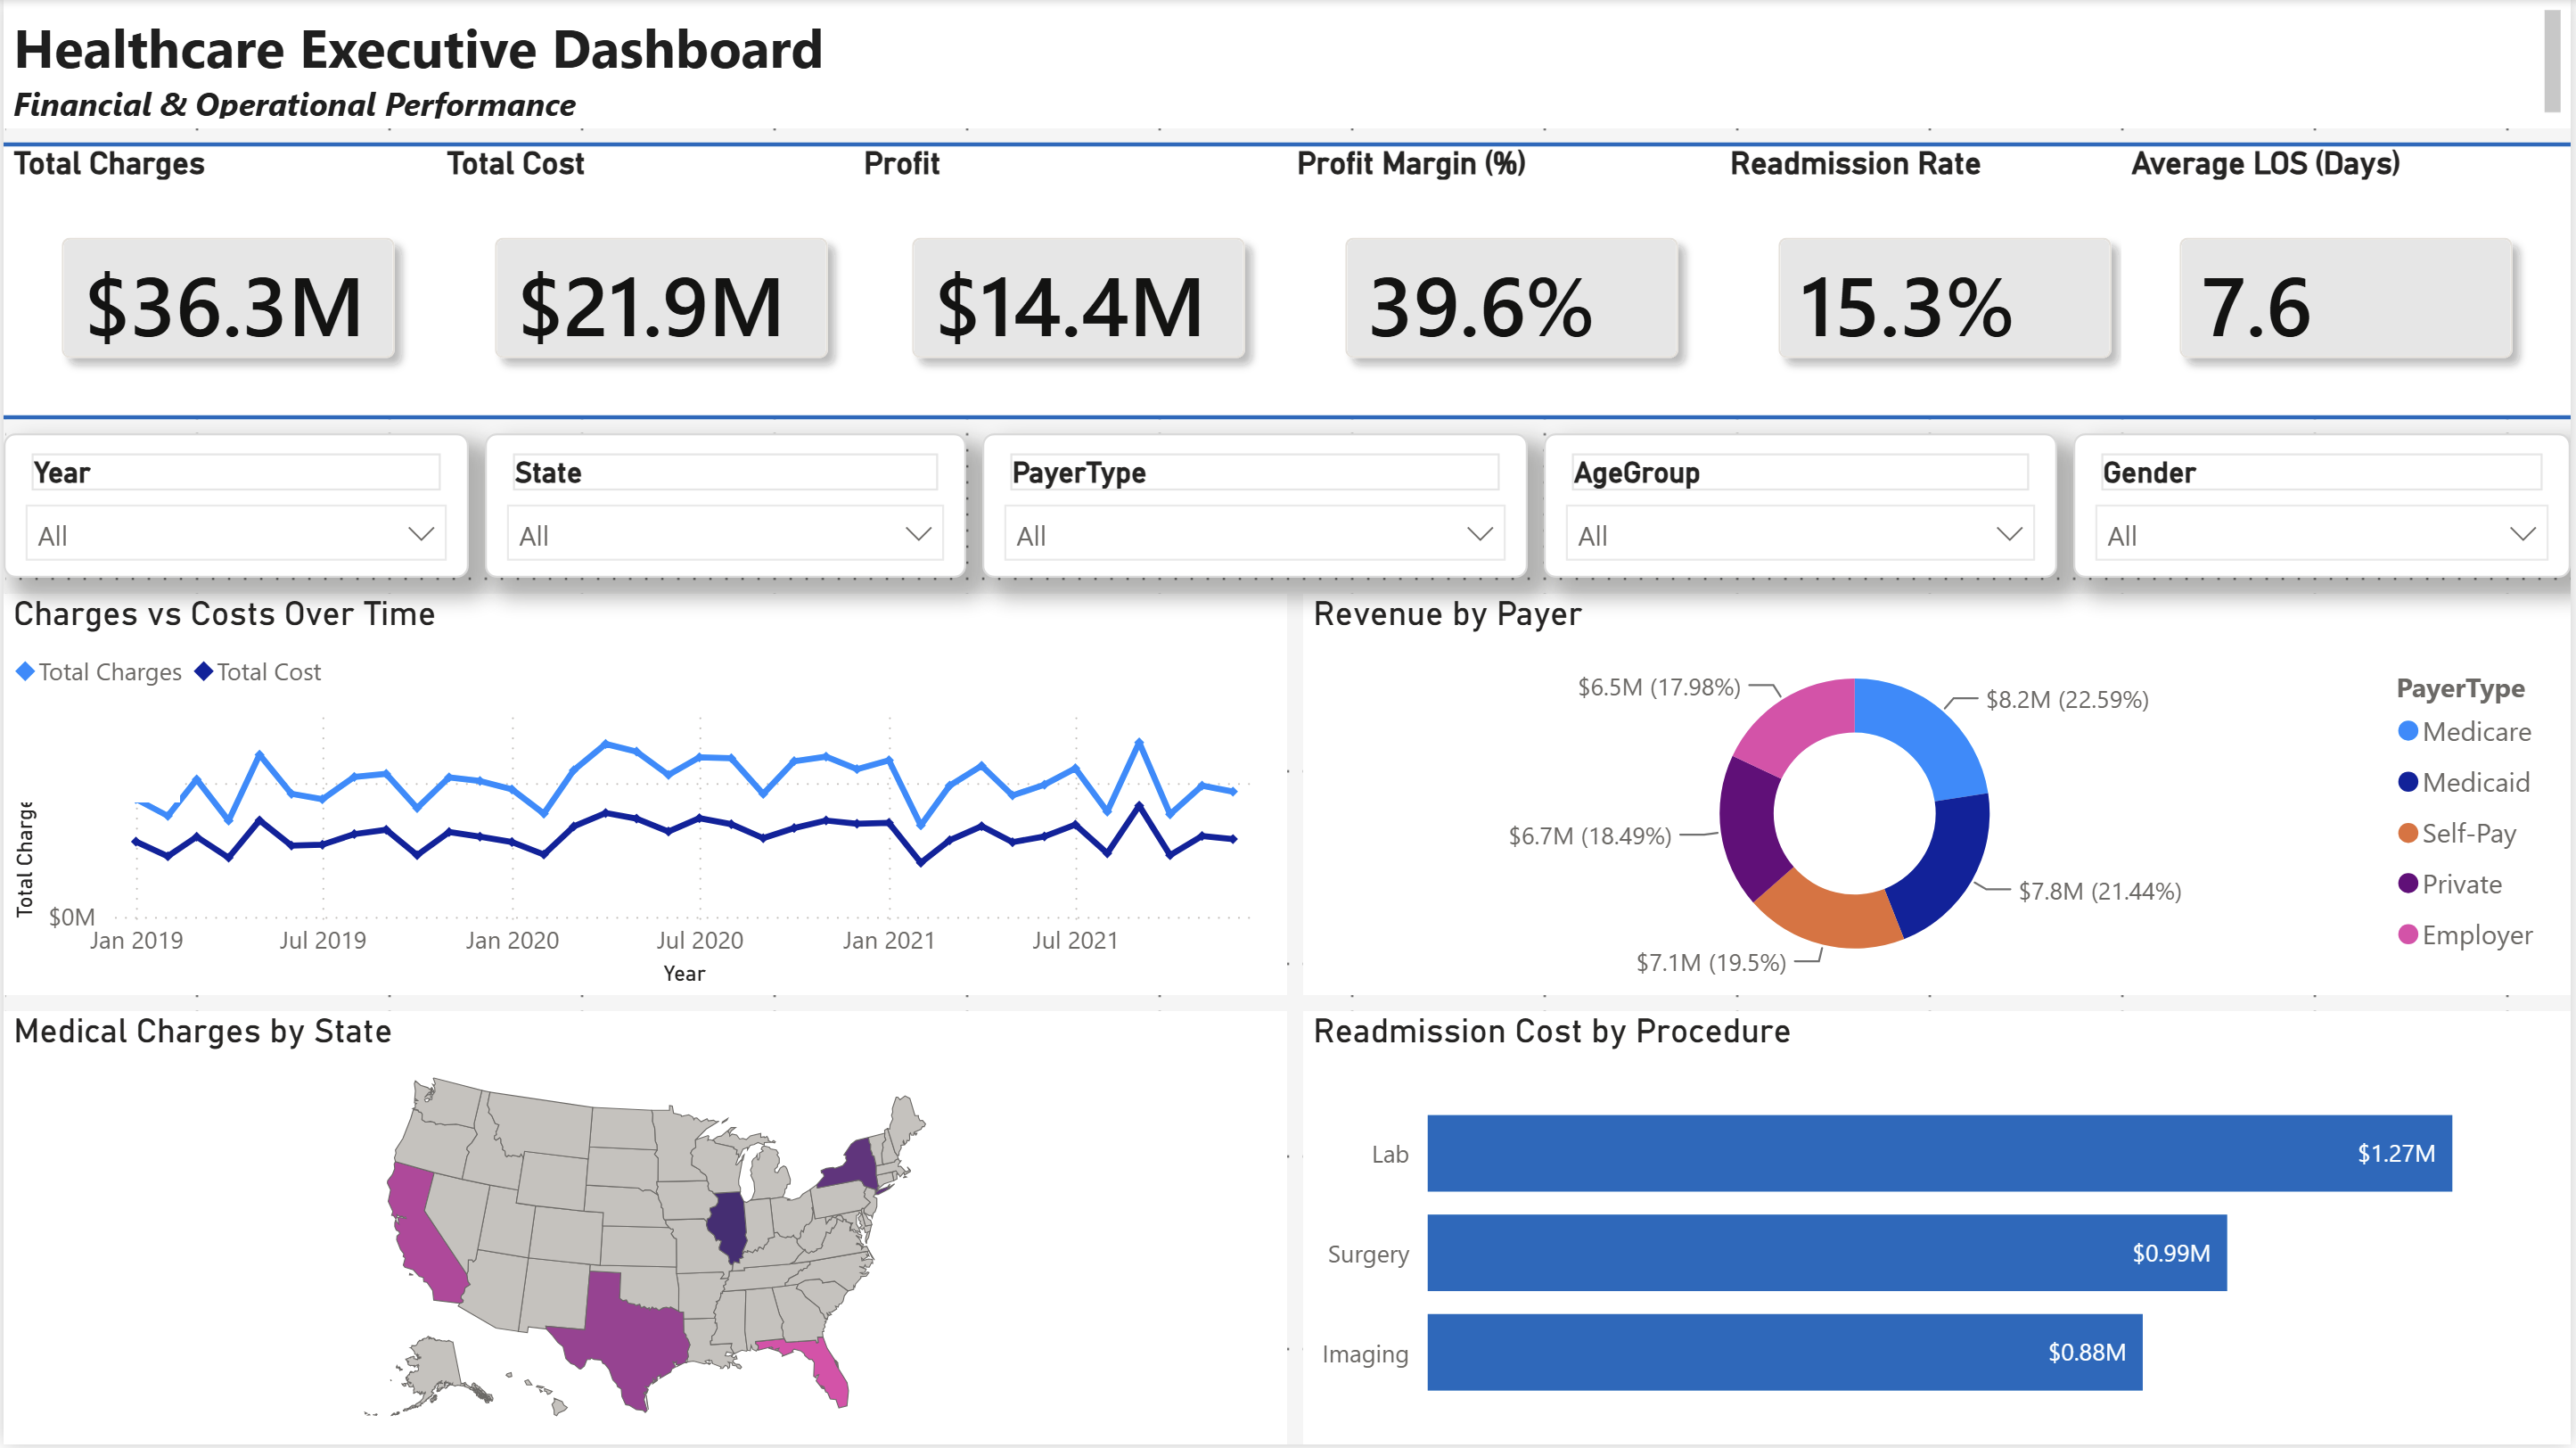

What the dashboard file says about the page in this screenshot:
{"tool":"powerbi","page":{"name":"Executive Dashboard","canvas":[1280,720],"ordinal":1},"visuals":[{"type":"cardVisual","title":"Total Charges","fields":{"Data":["Measures Table.Total Charges"]},"box":[0,64,224,136],"z":0},{"type":"cardVisual","title":"Total Cost","fields":{"Data":["Measures Table.Total Cost"]},"box":[216,64,224,136],"z":1000},{"type":"cardVisual","title":"Profit","fields":{"Data":["Measures Table.Profit"]},"box":[432,64,224,136],"z":2000},{"type":"cardVisual","title":"Profit Margin (%)","fields":{"Data":["Measures Table.Profit Margin (%)"]},"box":[640,64,224,136],"z":3000},{"type":"cardVisual","title":"Readmission Rate","fields":{"Data":["Measures Table.Readmission Rate"]},"box":[856,64,224,136],"z":4000},{"type":"cardVisual","title":"Average LOS (Days)","fields":{"Data":["Measures Table.Average Length of Stay"]},"box":[1056,64,224,136],"z":5000},{"type":"shape","box":[0,56,1280,16],"z":6000},{"type":"shape","box":[0,192,1280,16],"z":7000},{"type":"lineChart","title":"Hospital Charges vs Costs Over Time","fields":{"Category":["Calendar Table.FullDate.Variation.Date Hierarchy.Year","Calendar Table.FullDate.Variation.Date Hierarchy.Month"],"Y":["Measures Table.Total Charges","Measures Table.Total Cost"]},"box":[0,296,640,200],"z":8000},{"type":"donutChart","title":"Revenue by Payer","fields":{"Category":["Payer Table.PayerType"],"Y":["Measures Table.Total Charges"]},"box":[648,296,632,200],"z":9000},{"type":"clusteredBarChart","title":"Readmitted Total Cost by Procedure","fields":{"Category":["Procedure Table.ProcedureCategory"],"Y":["Measures Table.Total Cost (Readmitted)"]},"box":[648,504,632,216],"z":10000},{"type":"map","title":"Medical Charges by State","fields":{"Category":["Patient Table.State"],"Size":["Measures Table.Total Charges"]},"box":[0,504,640,216],"z":11000},{"type":"slicer","fields":{"Values":["Calendar Table.Year"]},"box":[0,208,232,72],"z":12000},{"type":"slicer","fields":{"Values":["Patient Table.State"]},"box":[240,208,240,72],"z":13000},{"type":"slicer","fields":{"Values":["Payer Table.PayerType"]},"box":[488,208,272,72],"z":14000},{"type":"slicer","fields":{"Values":["Patient Table.AgeGroup"]},"box":[768,208,256,72],"z":15000},{"type":"slicer","fields":{"Values":["Patient Table.Gender"]},"box":[1032,208,248,72],"z":16000},{"type":"textbox","box":[0,344,88,56],"z":17000},{"type":"textbox","box":[0,8,424,48],"z":18000}]}

Visuals, with their boxes in screenshot pixels (x1, y1, x2, y2), scaled from the page's 1280x720 canvas onto the 2576x1448 screenshot:
"Total Charges" cardVisual: <region>0, 128, 451, 402</region>
"Total Cost" cardVisual: <region>435, 128, 885, 402</region>
"Profit" cardVisual: <region>869, 128, 1320, 402</region>
"Profit Margin (%)" cardVisual: <region>1288, 128, 1739, 402</region>
"Readmission Rate" cardVisual: <region>1723, 128, 2173, 402</region>
"Average LOS (Days)" cardVisual: <region>2125, 128, 2575, 402</region>
shape: <region>0, 112, 2575, 144</region>
shape: <region>0, 386, 2575, 418</region>
"Hospital Charges vs Costs Over Time" lineChart: <region>0, 596, 1288, 998</region>
"Revenue by Payer" donutChart: <region>1304, 596, 2575, 998</region>
"Readmitted Total Cost by Procedure" clusteredBarChart: <region>1304, 1014, 2575, 1447</region>
"Medical Charges by State" map: <region>0, 1014, 1288, 1447</region>
slicer - Calendar Table.Year: <region>0, 418, 467, 564</region>
slicer - Patient Table.State: <region>483, 418, 966, 564</region>
slicer - Payer Table.PayerType: <region>982, 418, 1530, 564</region>
slicer - Patient Table.AgeGroup: <region>1546, 418, 2061, 564</region>
slicer - Patient Table.Gender: <region>2077, 418, 2575, 564</region>
textbox: <region>0, 692, 177, 804</region>
textbox: <region>0, 16, 853, 112</region>
